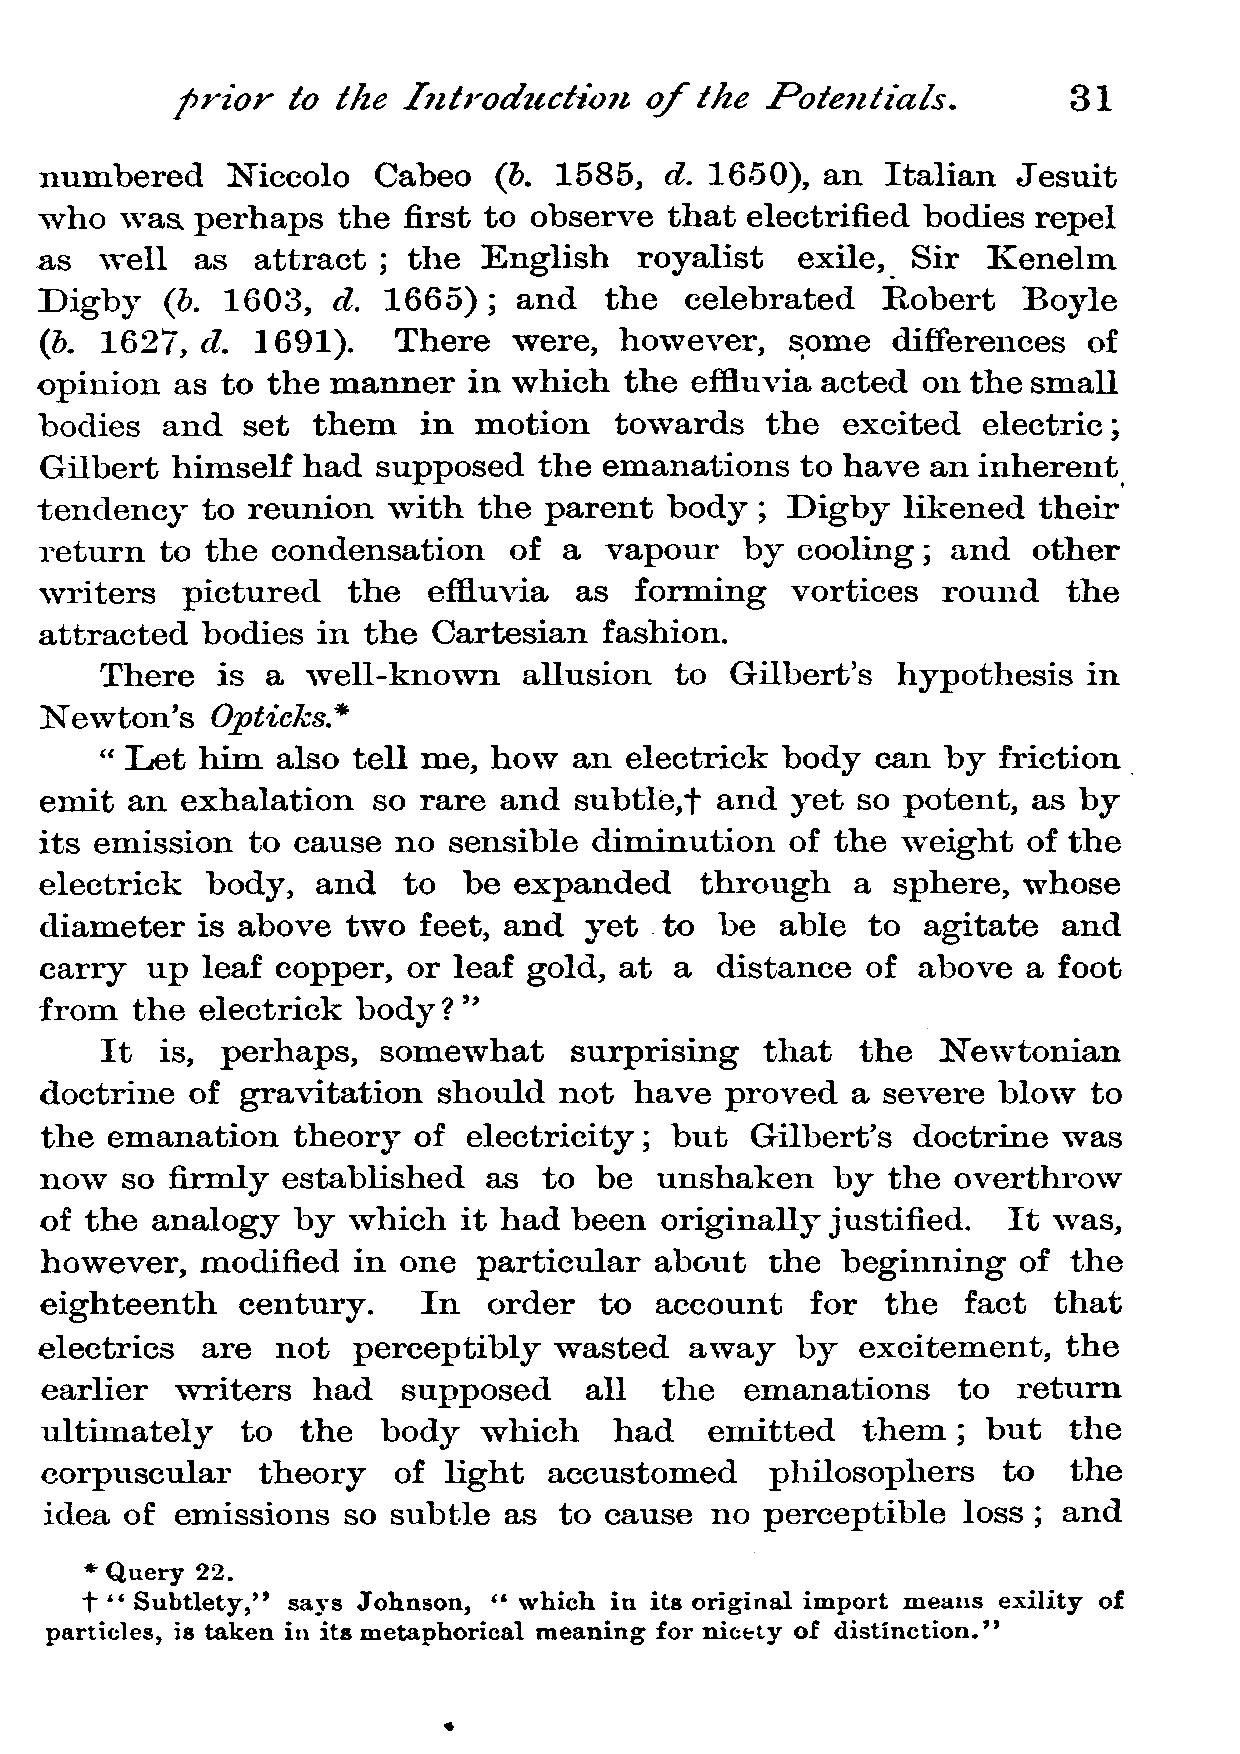content: (34, 154, 1134, 1648)
content_chapter: (169, 79, 957, 119)
content_pagenumber: (1067, 81, 1110, 117)
